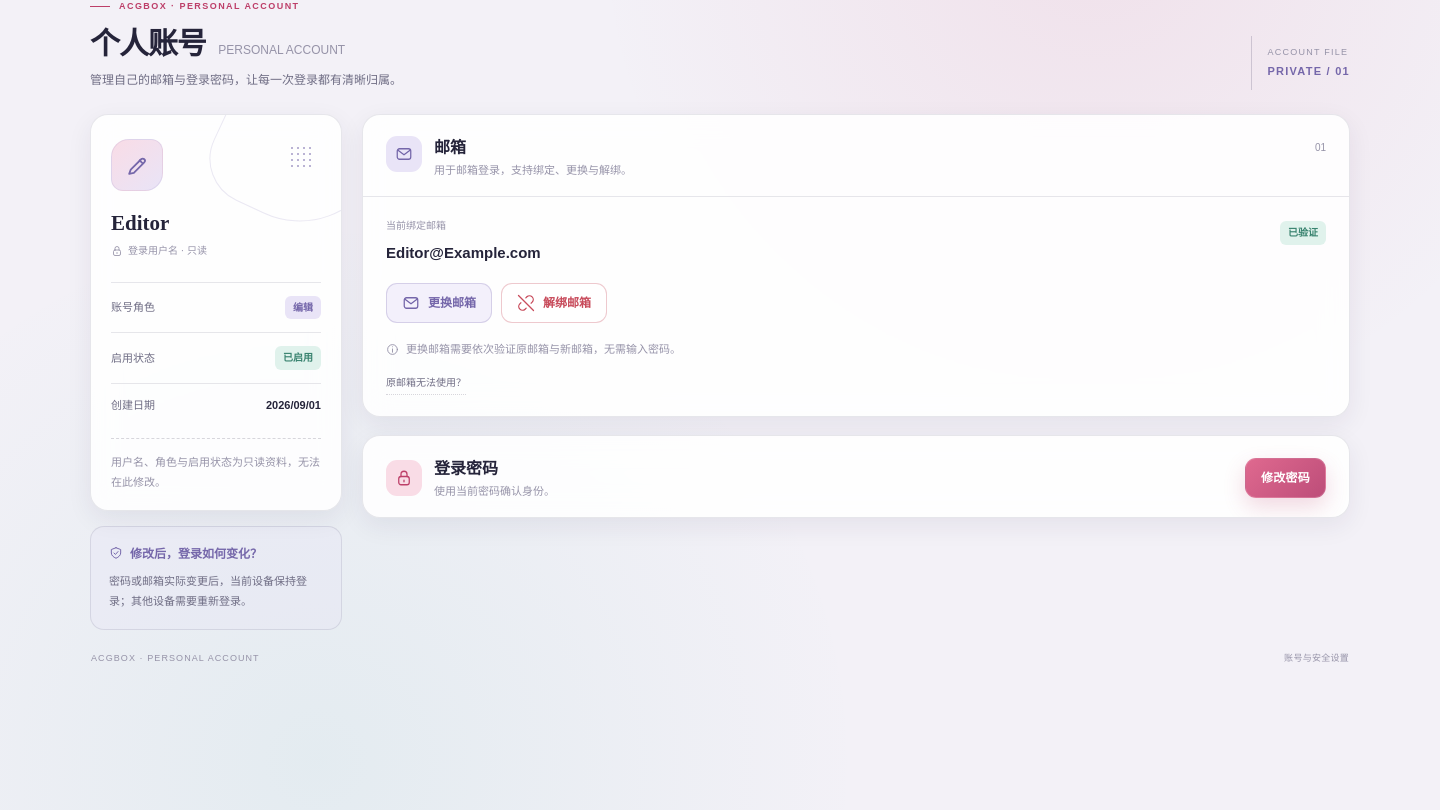
Test case: 个人账号 › 解绑只发送 UNBIND 和 verificationCode，不要求密码，成功后显示未绑定
Click the button with id "unbindEmailAction": click(554, 303) [501, 283, 607, 323]
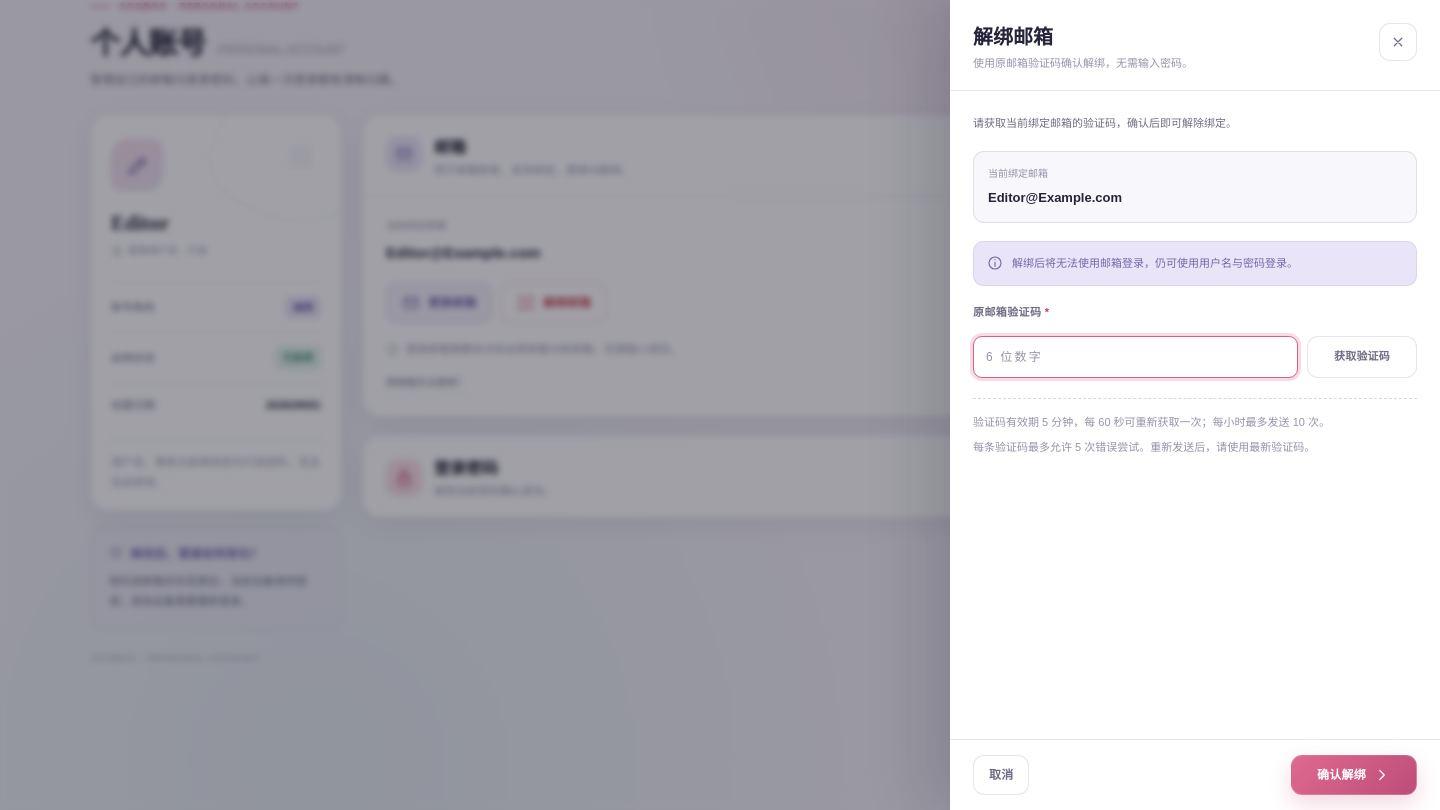
Click the button with id "sendOldCode": click(1362, 357) [1307, 336, 1417, 378]
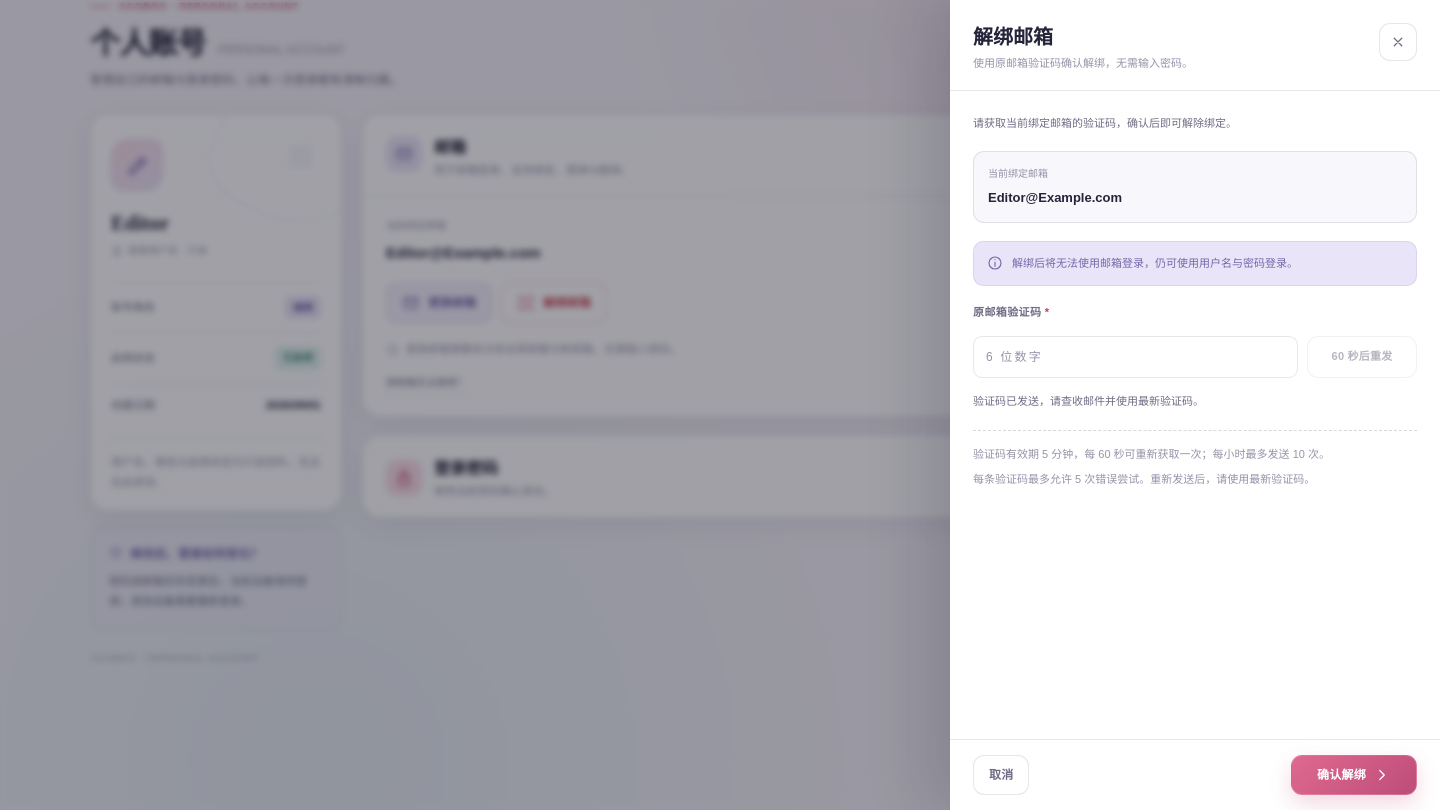
In the field with id "oldCode": (1136, 357) [973, 336, 1298, 378], type "000123"
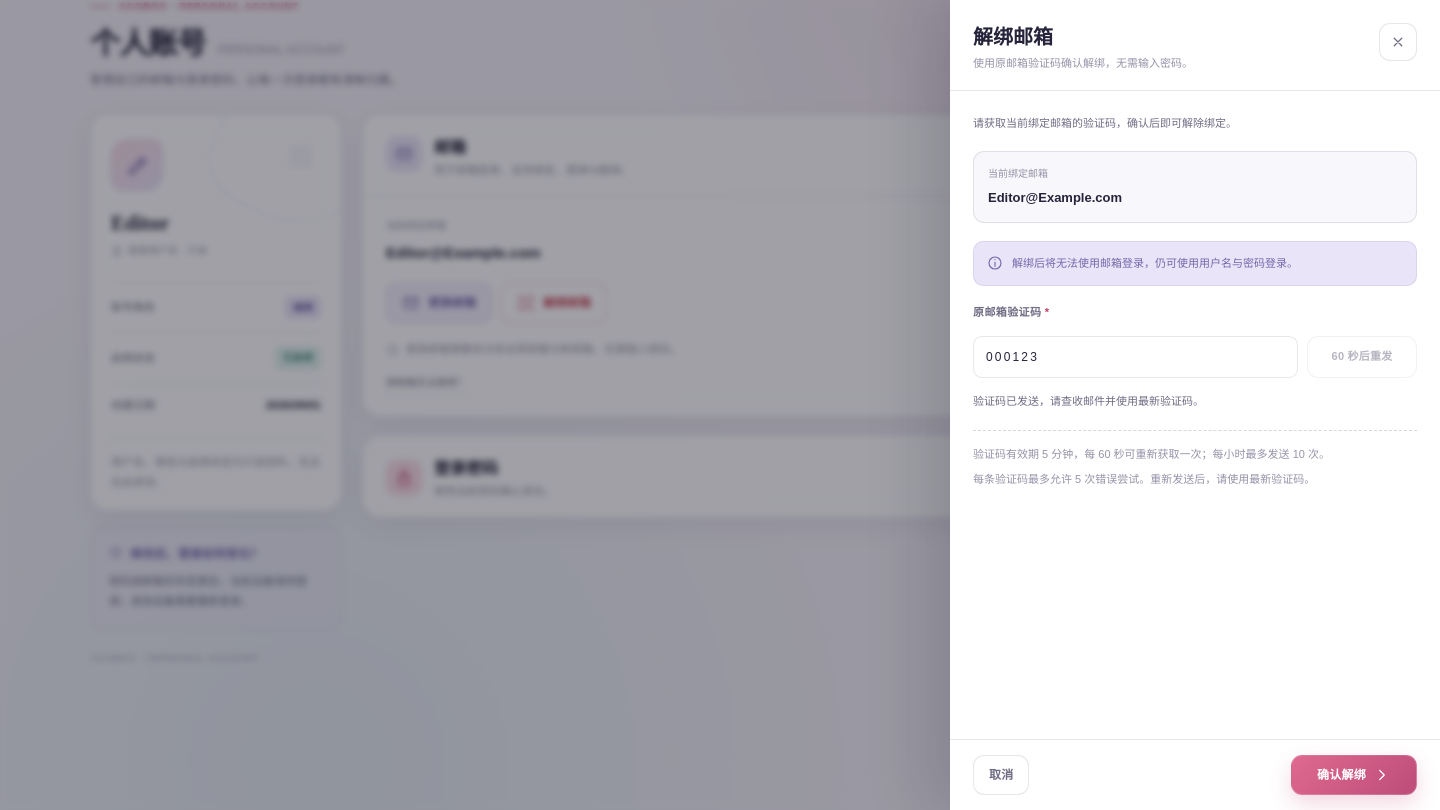
Click the button with id "flowSubmit": click(1354, 775) [1291, 755, 1417, 795]
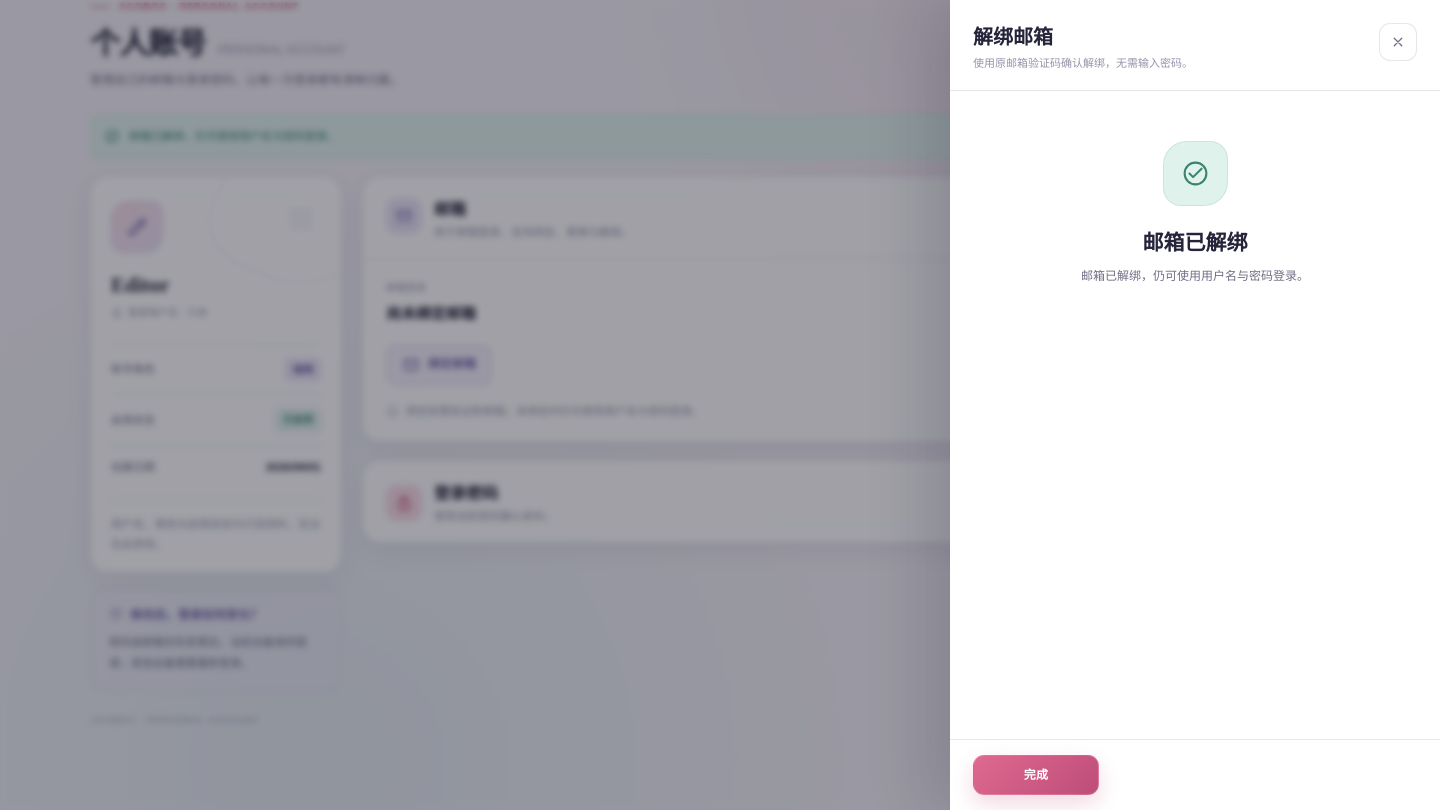
Expected: the text "尚未绑定邮箱" is shown, [386, 302, 476, 326]
Expected: the message with class "success-view" shows "仍可使用用户名与密码登录", [1081, 269, 1309, 283]
